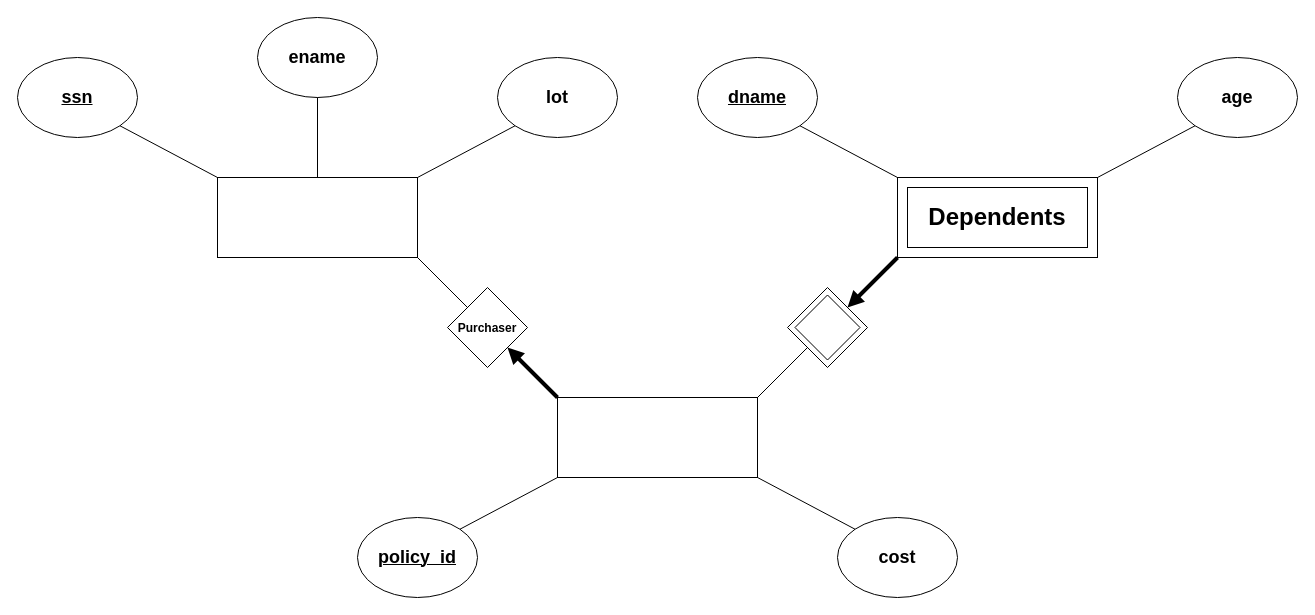
The diagram is 1315 pixels wide and 615 high, and some of its shapes have lost their labels. Each missing label, with the centre of its shape:
"Beneficiary" belongs at pixel 827 327.
"Employees" belongs at pixel 317 217.
"Policies" belongs at pixel 657 437.
